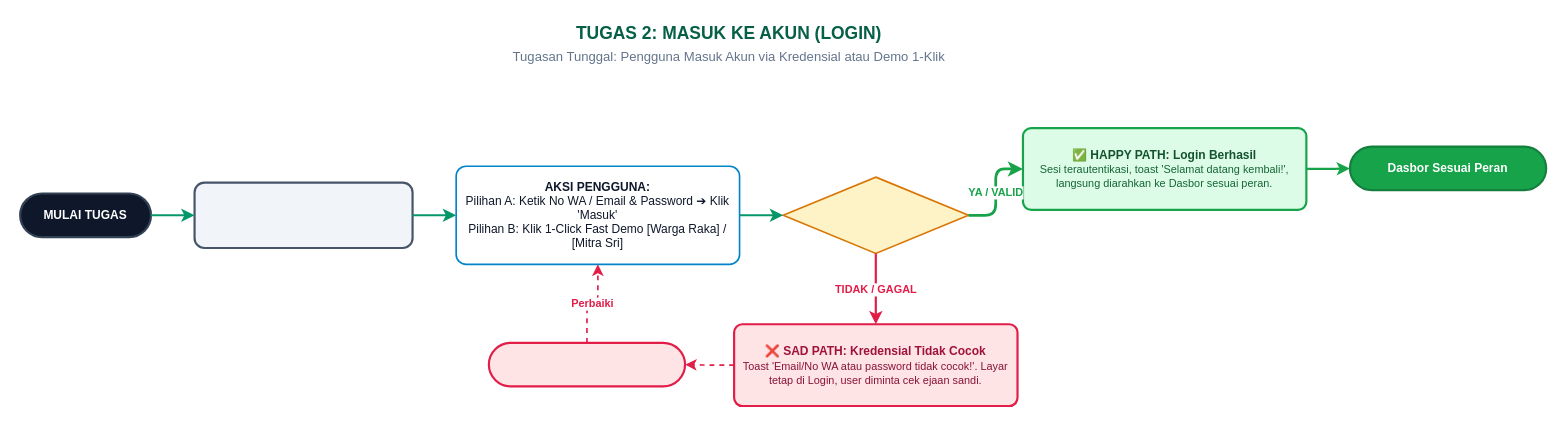
Image size: 1565x425. Some labels were removed from this diagram. Here are the shapes that lost their labels. From the top down, the centre of each, then its label:
At [303,215]: "LAYAR: LoginScreen.jsx (Layar Penuh)".
At [875,215]: "Kredensial Cocok atau Fast Demo?".
At [586,364]: "Ulangi Input Sandi".
